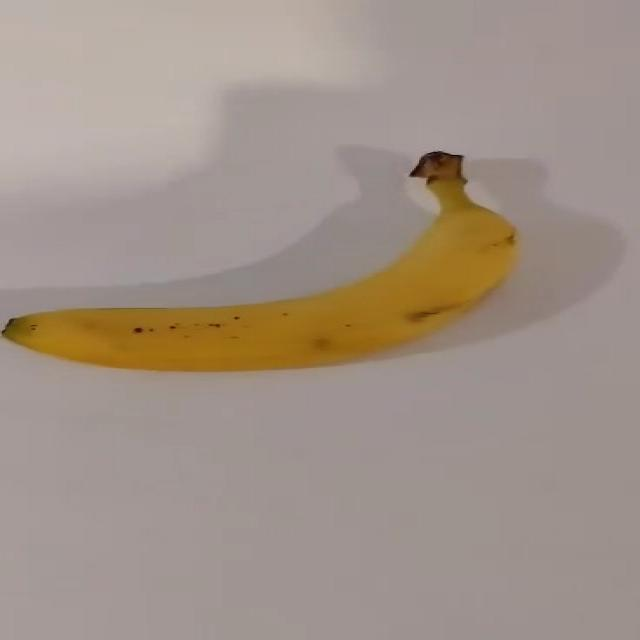Banana: (0, 173, 522, 377)
